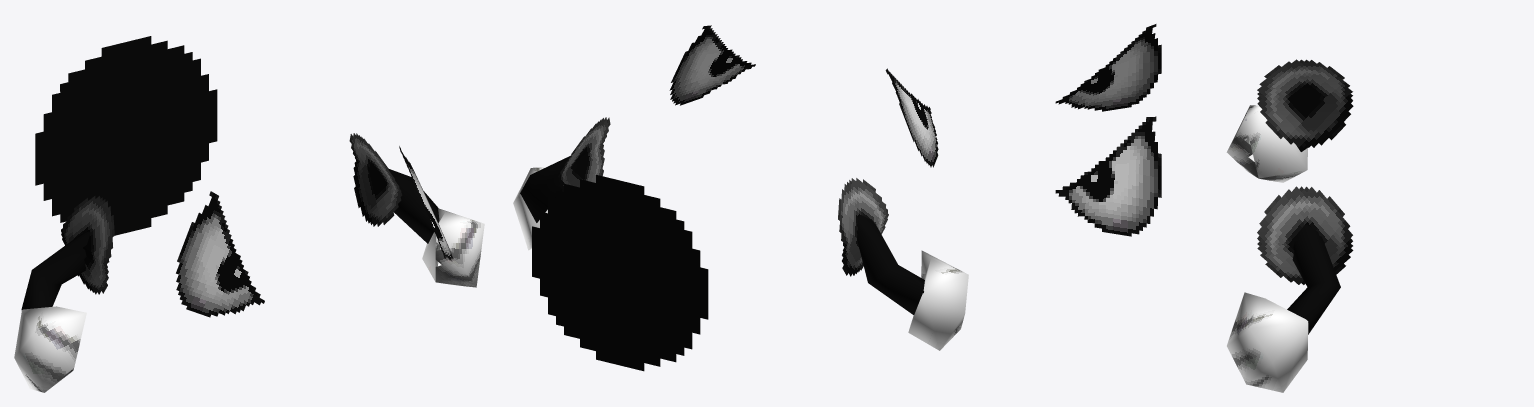
File: killer_face.glb
3 views of the same model, side by side, from view 1: azimuth 30°, elevation 25°; view 2: azimuth 150°, elevation 25°; view 3: azimuth 270°, elevation 25° (orthographic). The views are drawn at different scales.
Parts seen in each view (by area): view 1: killer_face; view 2: killer_face; view 3: killer_face.
Part boxes in pixels (x1,y1,x2,y2): killer_face: [14, 36, 484, 392]; killer_face: [513, 25, 968, 371]; killer_face: [1055, 24, 1353, 392].
Bounding box in the file's own units: 39.01 × 17.58 × 37.35.
1 material, 1 textured.
